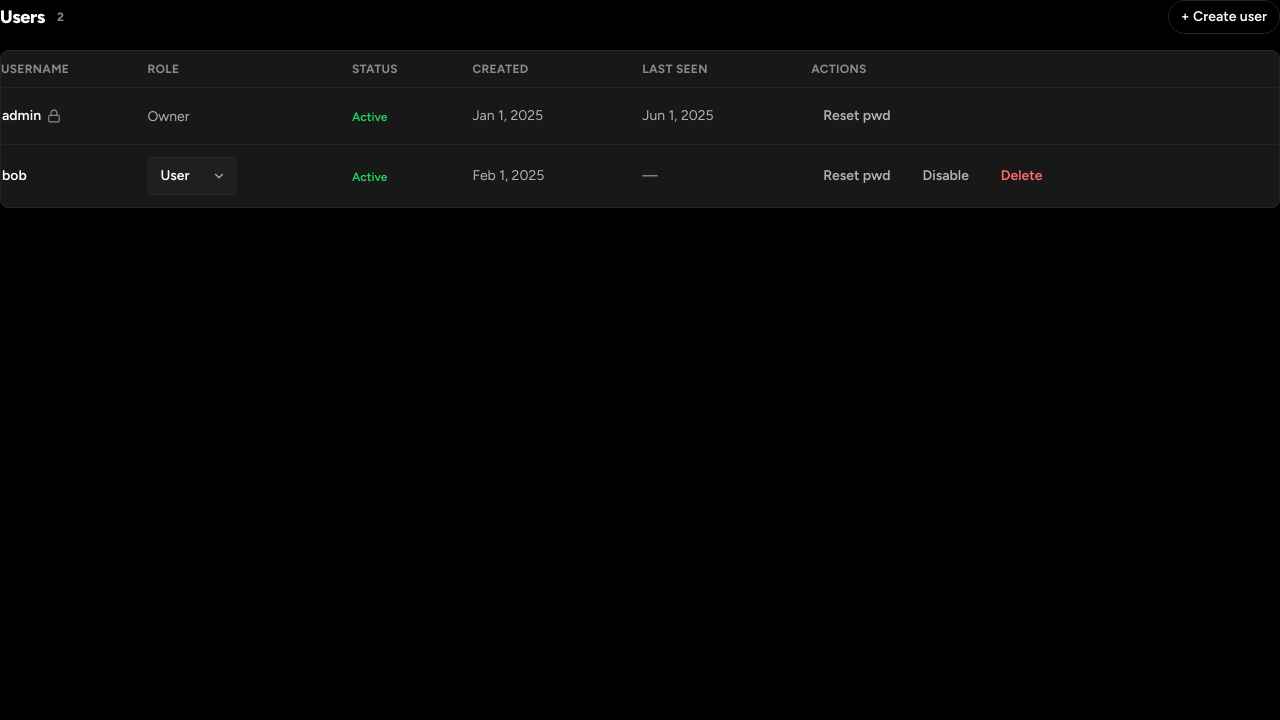
Test: UsersSection › Delete user modal › clicking Delete opens a confirmation modal showing the username
The width and height of the screenshot is (1280, 720).
Click the button "Delete".
click(1022, 176)  # box [989,160,1054,192]
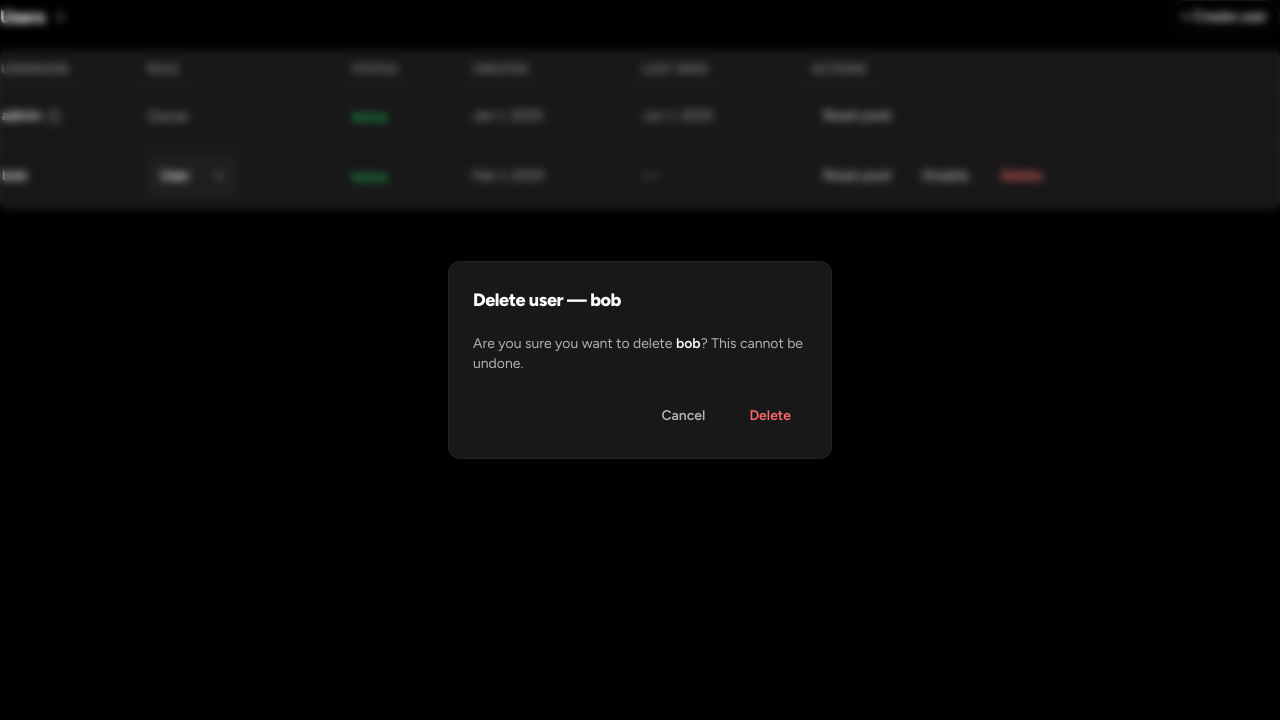
expect the dialog is shown: met, box [448,261,832,459]
expect the dialog shows "bob": met, box [590,289,621,311]
